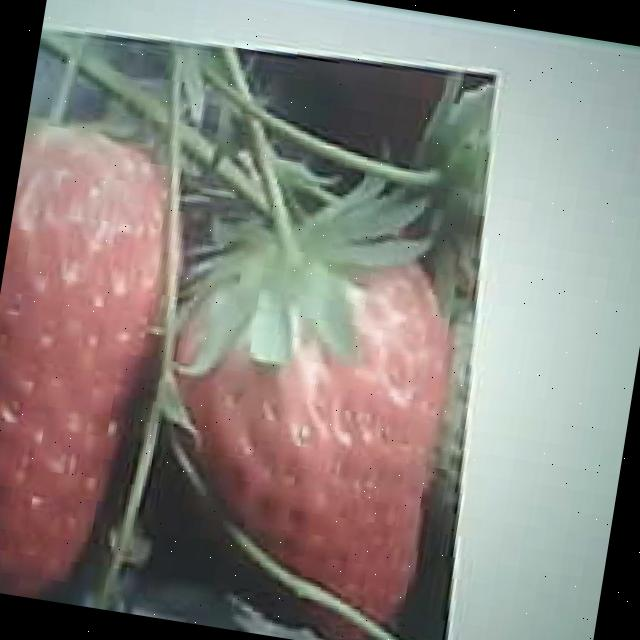strawberry: (135, 223, 471, 640), (0, 119, 185, 610)
